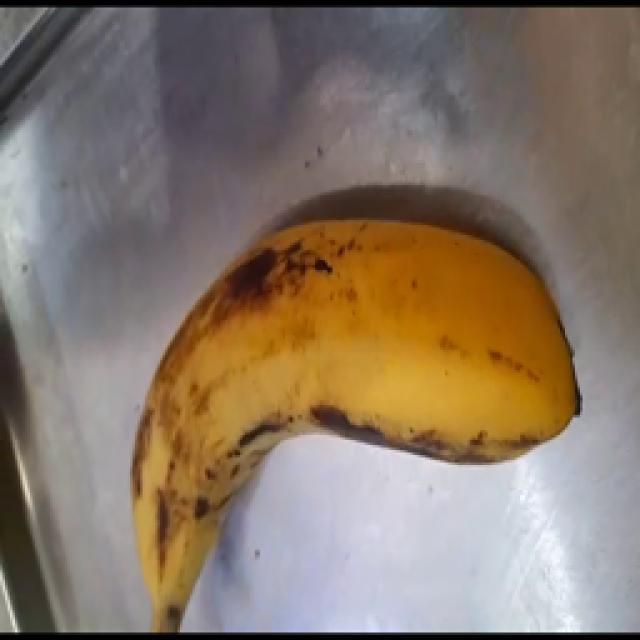Rotten_Banana: (131, 200, 640, 610), (256, 104, 590, 542)
